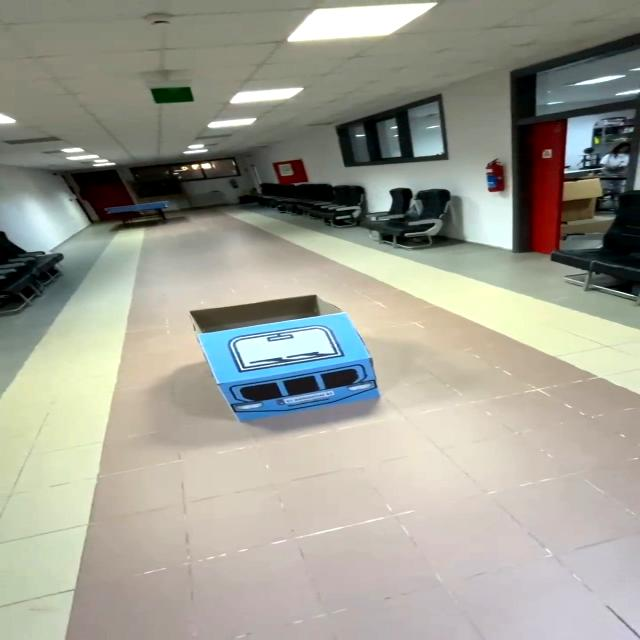blue_car: (162, 286, 420, 427)
